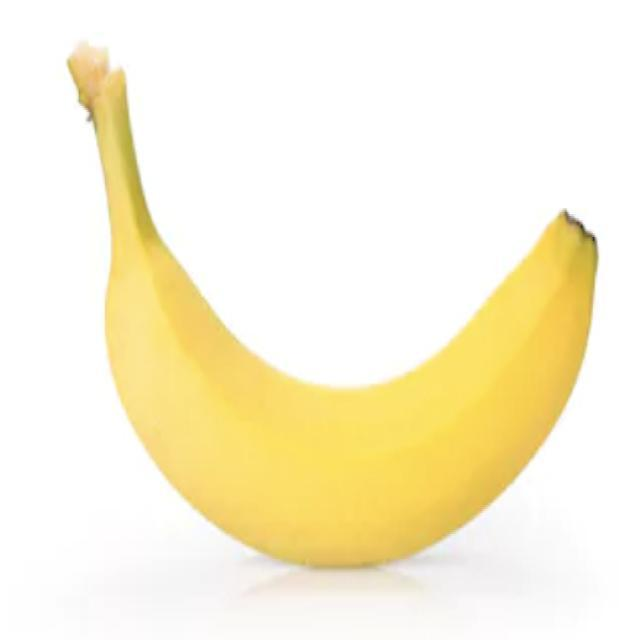banana: (70, 81, 601, 576)
